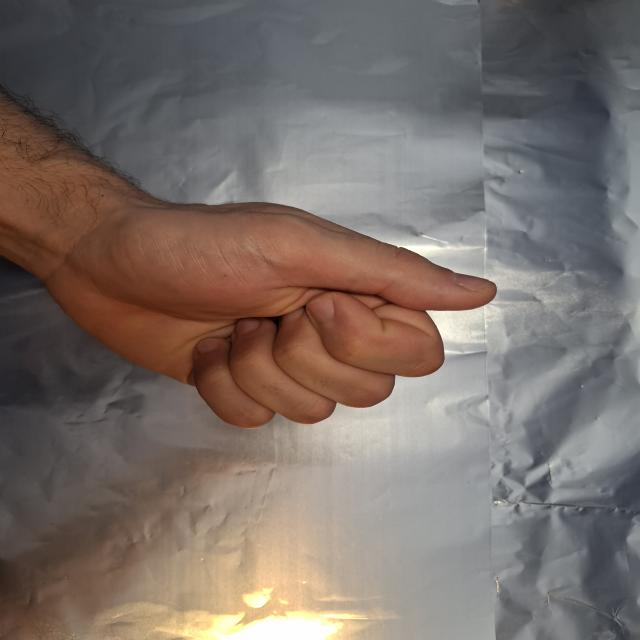glove_off: (38, 158, 499, 431)
